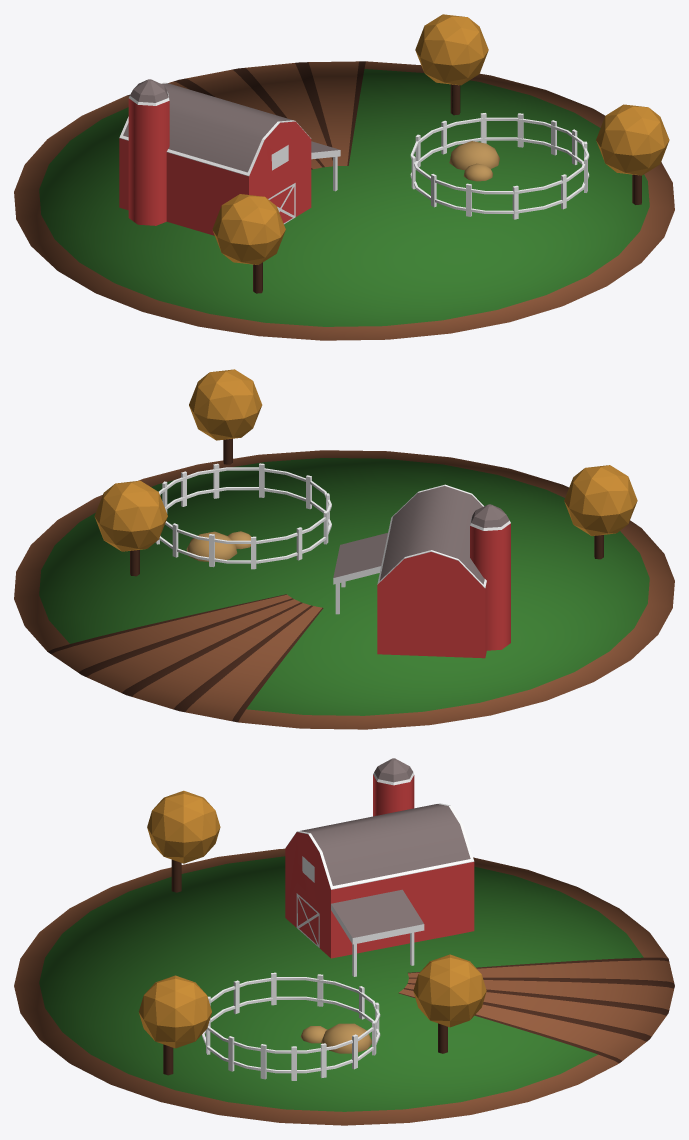
File: dGQEp7aXvYz.glb
3 views of the same model, one above another, from view 1: azimuth 30°, elevation 25°; view 2: azimuth 150°, elevation 25°; view 3: azimuth 270°, elevation 25° (orthographic).
Parts seen in each view (by area): view 1: Sphere001, Box001; view 2: Sphere001, Box001; view 3: Sphere001, Box001.
Part boxes in pixels (x1=…): Sphere001: x1=14, y1=61, x2=674, y2=340; Box001: x1=119, y1=14, x2=669, y2=264; Sphere001: x1=14, y1=438, x2=674, y2=729; Box001: x1=94, y1=369, x2=637, y2=658; Sphere001: x1=14, y1=848, x2=674, y2=1125; Box001: x1=139, y1=758, x2=486, y2=1080.
Size of the model in its own units: 3.91 by 1 by 3.91.
